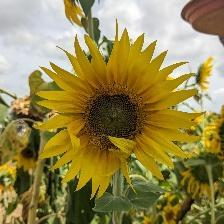sunflower: (34, 19, 207, 202)
